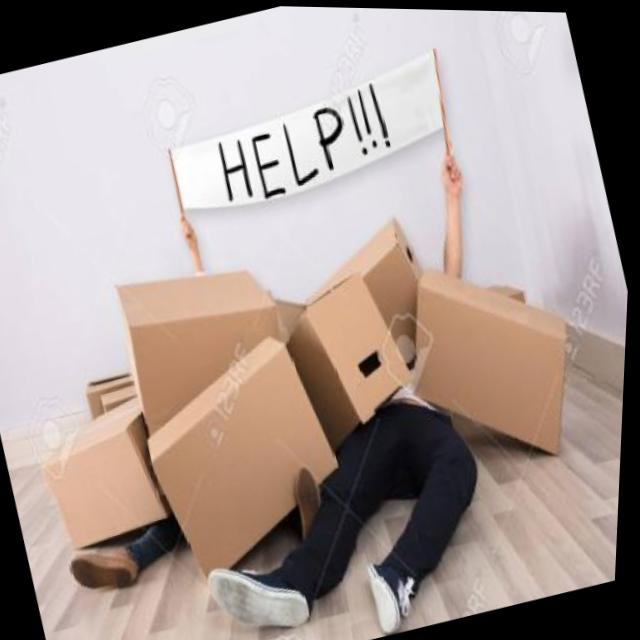box: (115, 321, 383, 616), (387, 228, 609, 496), (99, 226, 314, 441), (282, 260, 427, 452), (29, 396, 186, 573), (326, 199, 446, 352)
